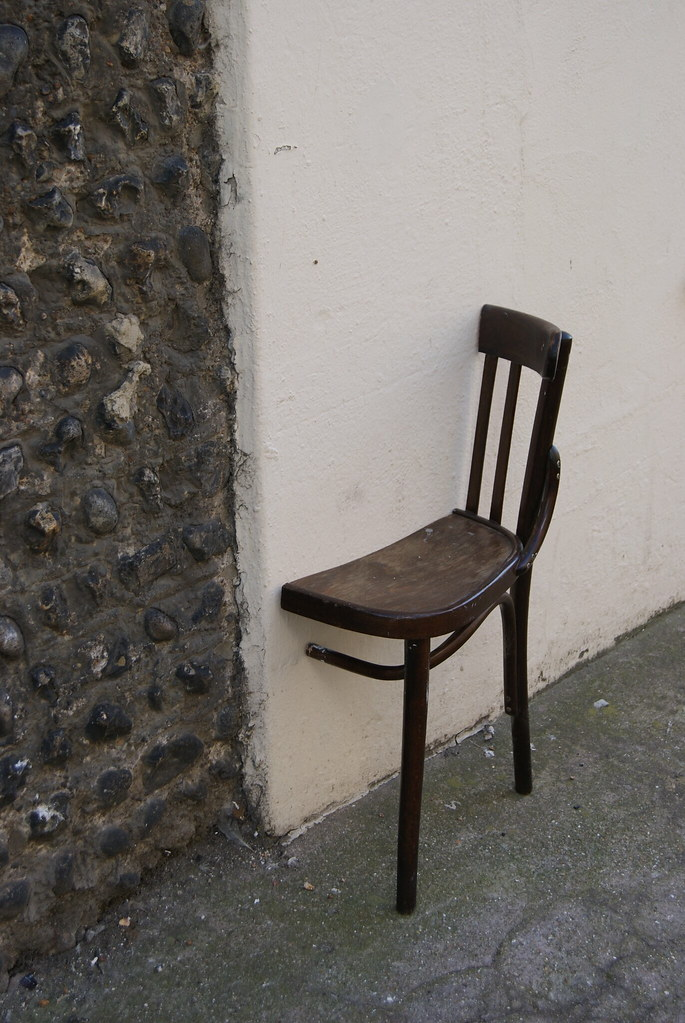chair: (282, 205, 665, 964)
